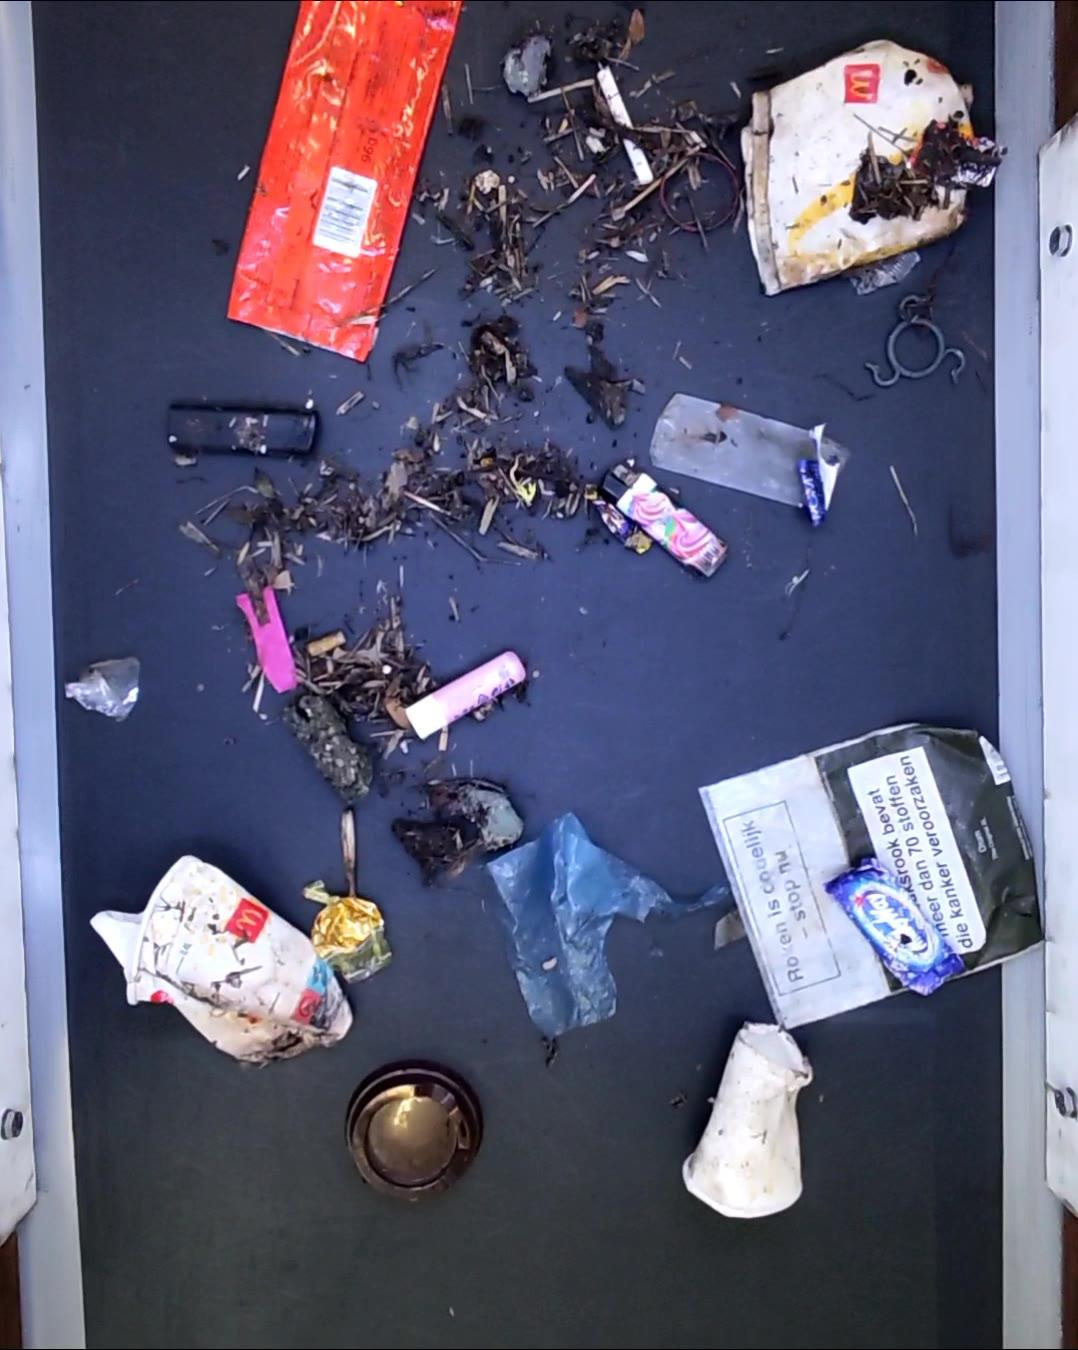Plastic folies of stukken daarvan 2.5- 50 cm: (484, 813, 738, 1030), (647, 391, 847, 509), (62, 656, 145, 722), (844, 250, 921, 296), (502, 34, 551, 99)
Snoep snack en chips verpakkingen: (228, 0, 471, 362), (828, 865, 969, 995), (304, 882, 394, 979), (915, 122, 1002, 189), (580, 485, 658, 559), (800, 426, 843, 528)
